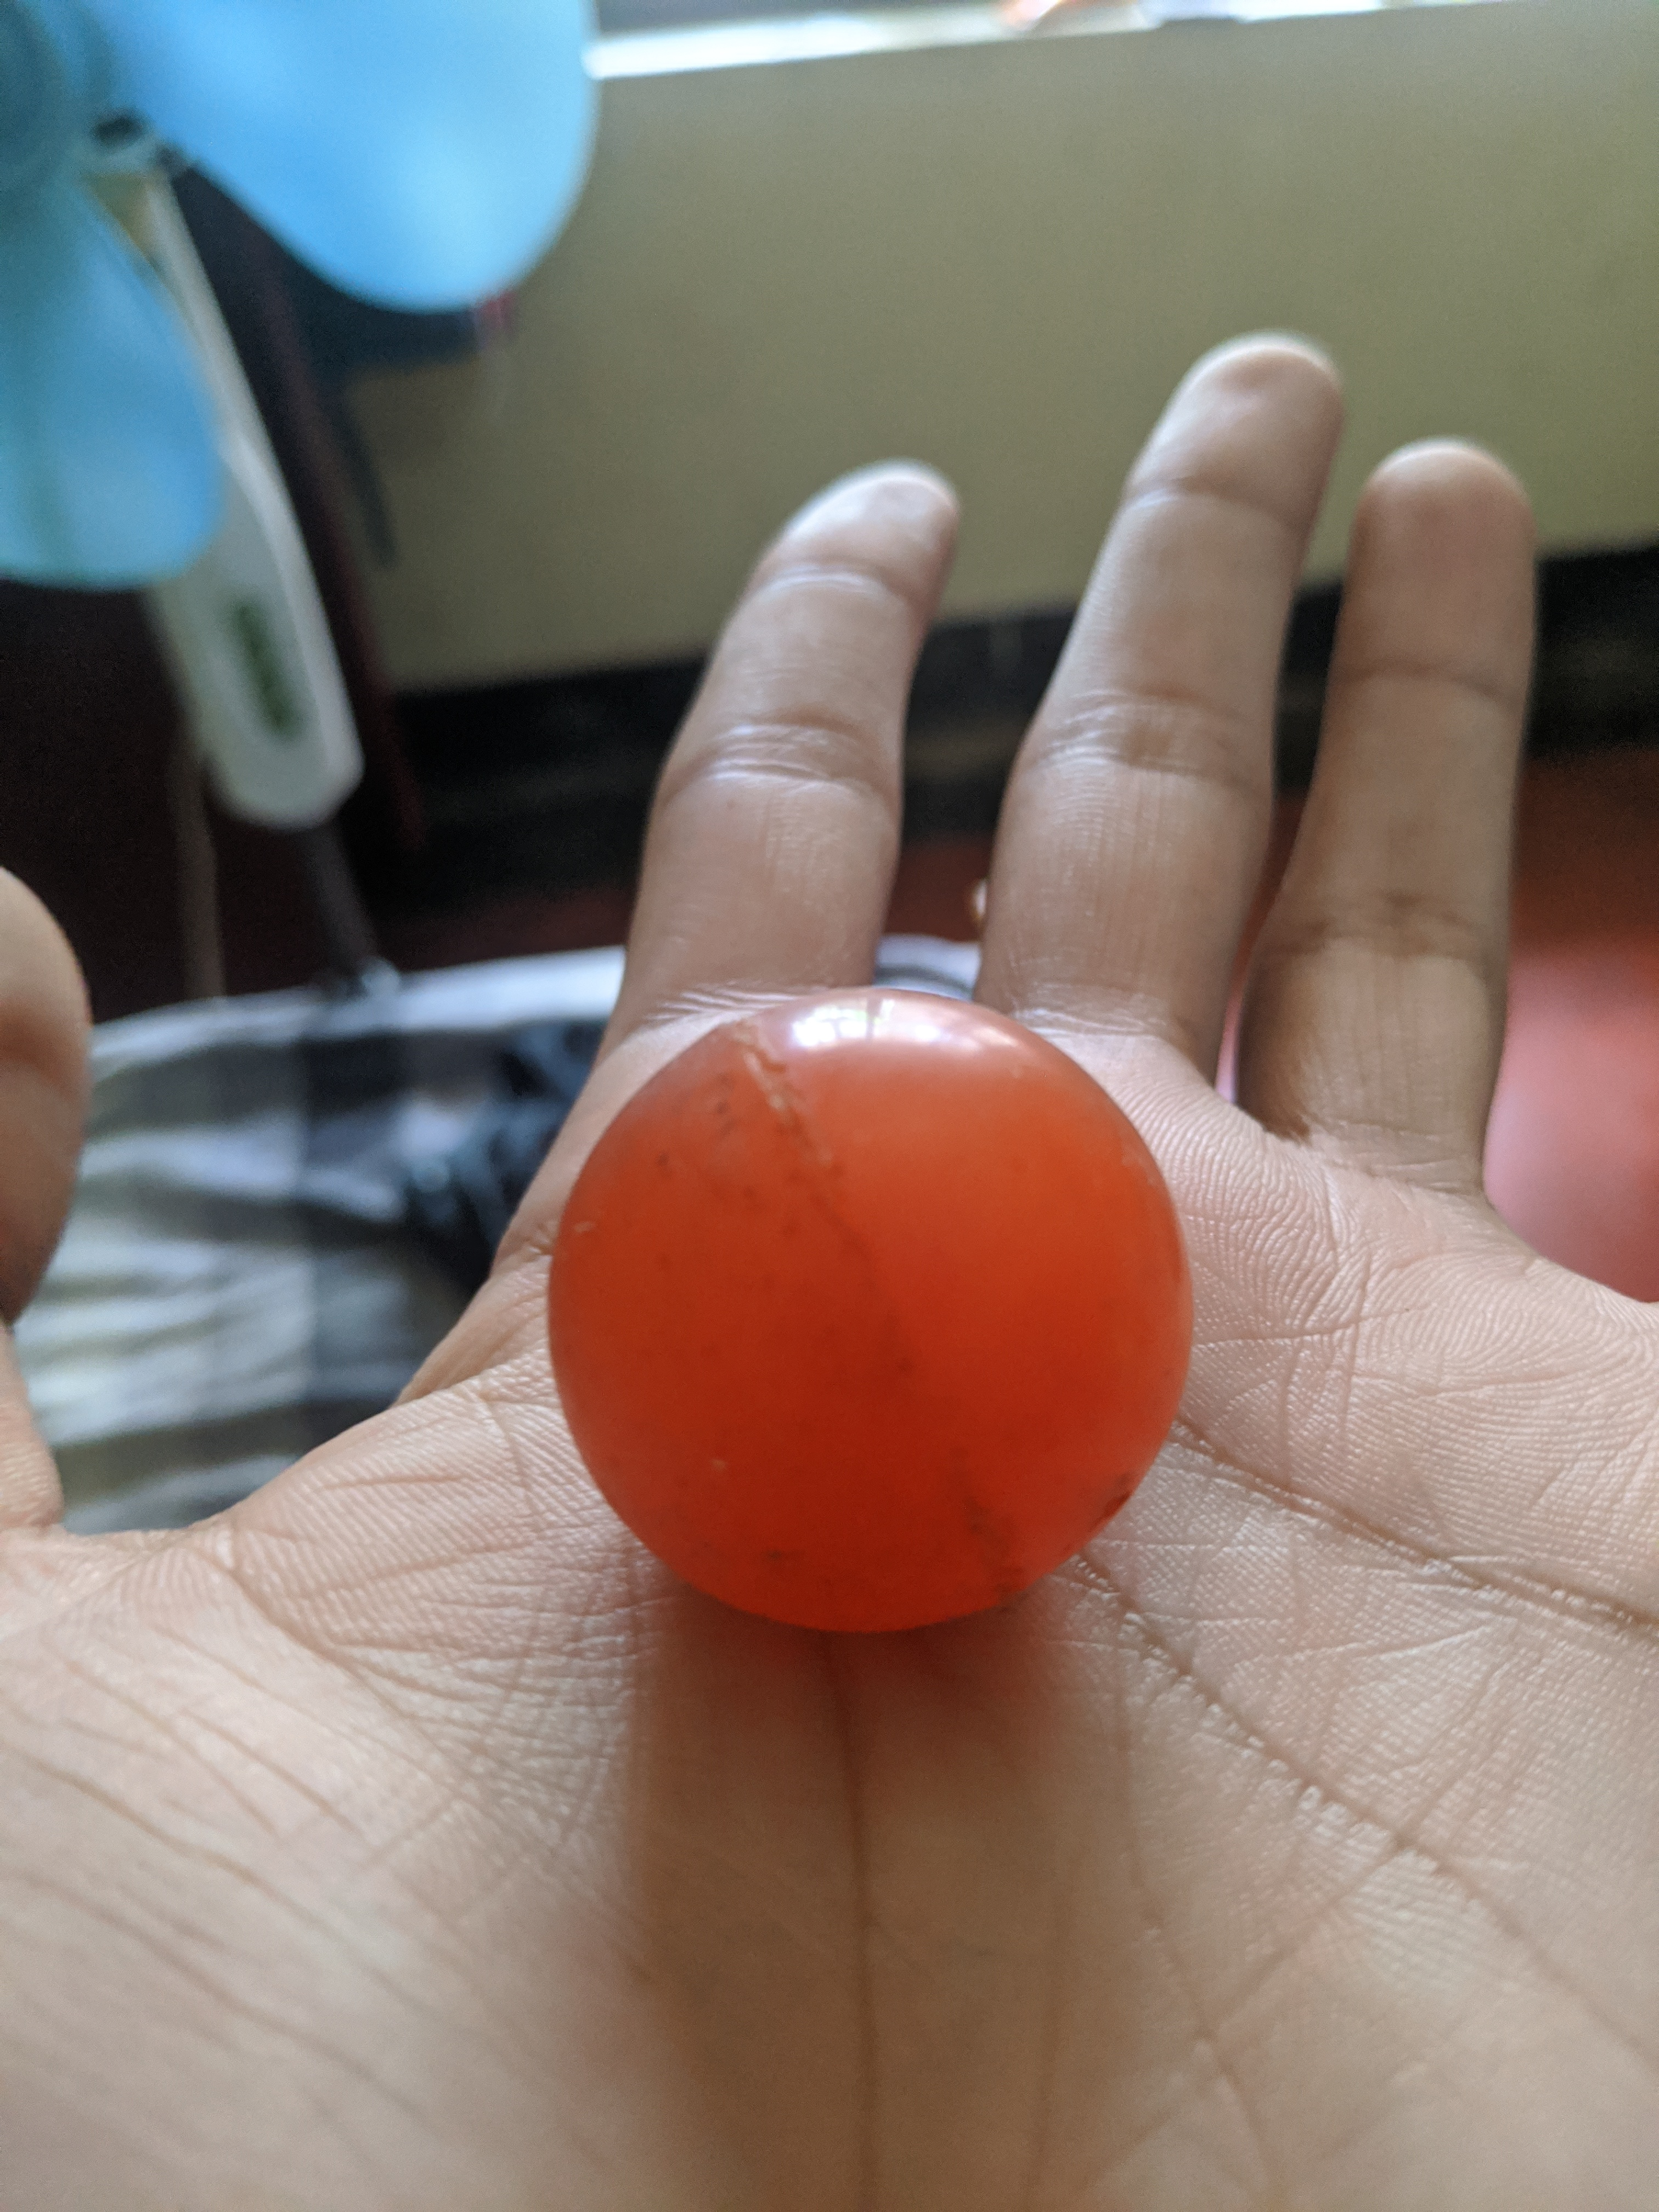red_ball: (530, 975, 1206, 1655)
